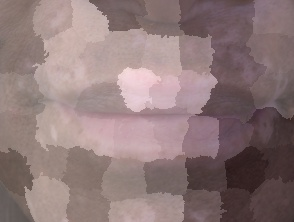vitiligo: (0, 0, 294, 173), (70, 194, 238, 222)
